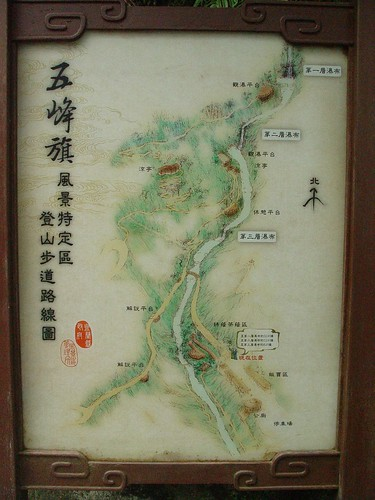wufengciWaterfall: (25, 47, 346, 386)
